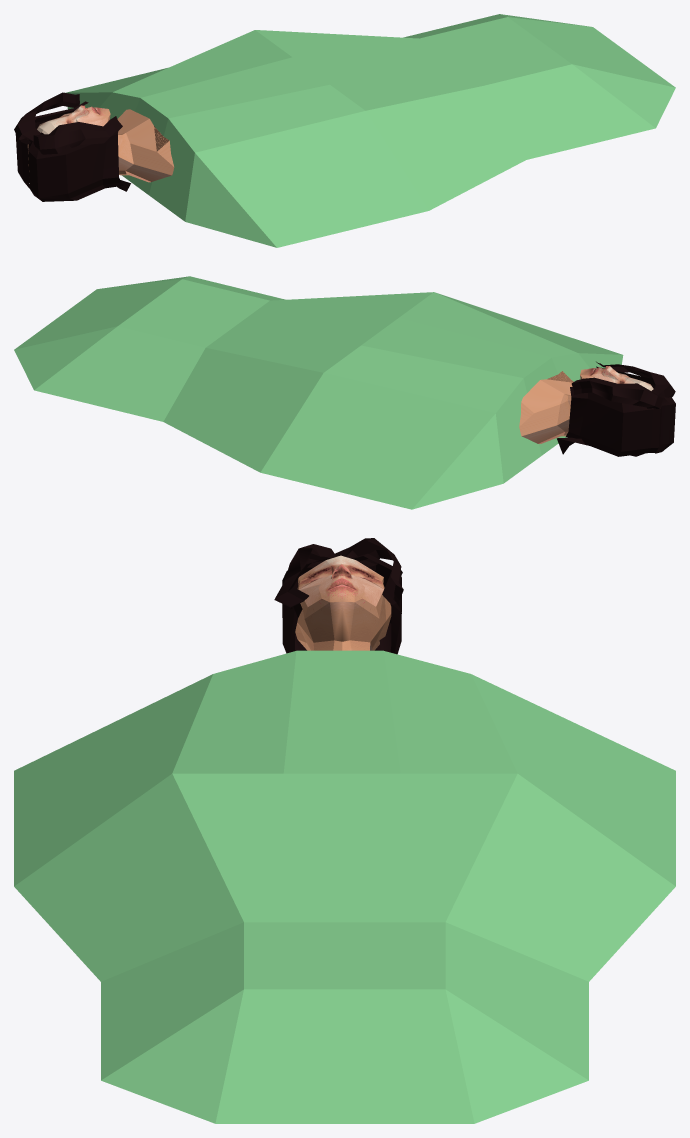
Rendered from jon3.gltf.
3 renders of one model, top to bottom at view 1: azimuth 30°, elevation 25°; view 2: azimuth 150°, elevation 25°; view 3: azimuth 270°, elevation 25°, orthographic. The views are drawn at different scales.
Visible parts, largest first — view 1: Cube.012, Plane.013, Cube.011, Plane.014, Plane.012, Plane.011; view 2: Cube.012, Plane.011, Cube.011, Plane.012, Plane.013, Plane.014; view 3: Cube.012, Cube.011, Plane.014, Plane.011, Plane.012, Plane.013.
Part boxes in pixels (<box>): Cube.012: <box>65,14,675,247</box>; Plane.013: <box>28,131,123,201</box>; Cube.011: <box>27,105,174,182</box>; Plane.014: <box>33,116,122,154</box>; Plane.012: <box>14,92,79,141</box>; Plane.011: <box>15,101,88,188</box>; Cube.012: <box>14,276,623,509</box>; Plane.011: <box>566,387,661,456</box>; Cube.011: <box>519,366,653,443</box>; Plane.012: <box>571,377,665,408</box>; Plane.013: <box>596,366,675,453</box>; Plane.014: <box>596,361,675,397</box>; Cube.012: <box>14,650,675,1123</box>; Cube.011: <box>295,555,391,650</box>; Plane.014: <box>274,544,336,609</box>; Plane.011: <box>351,553,401,654</box>; Plane.012: <box>326,538,403,606</box>; Plane.013: <box>282,558,327,653</box>.
Bounding box in the file's own units: 2.65 × 0.3818 × 1.59.
Materials: 7 (1 with a texture image).
